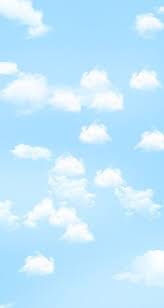sky: (2, 2, 163, 308)
